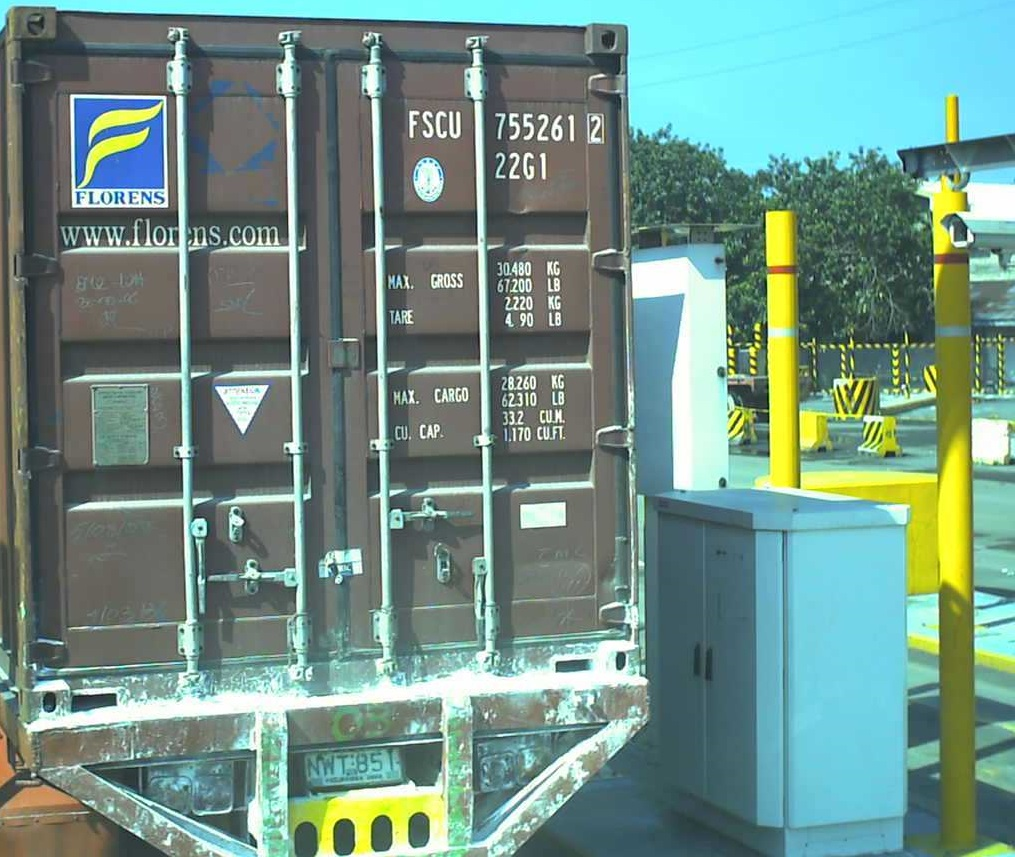container_door: (3, 2, 639, 739)
